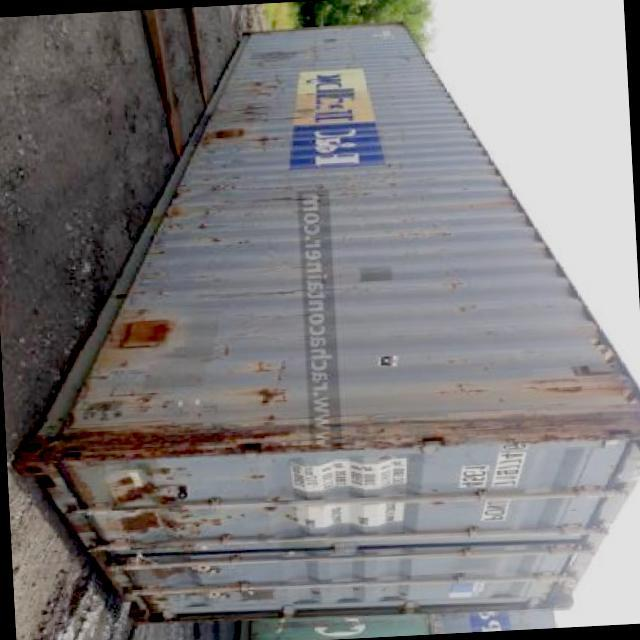rust: (39, 415, 343, 467), (121, 320, 171, 349), (117, 483, 161, 505), (122, 513, 161, 535), (155, 568, 185, 581), (217, 128, 245, 138)
